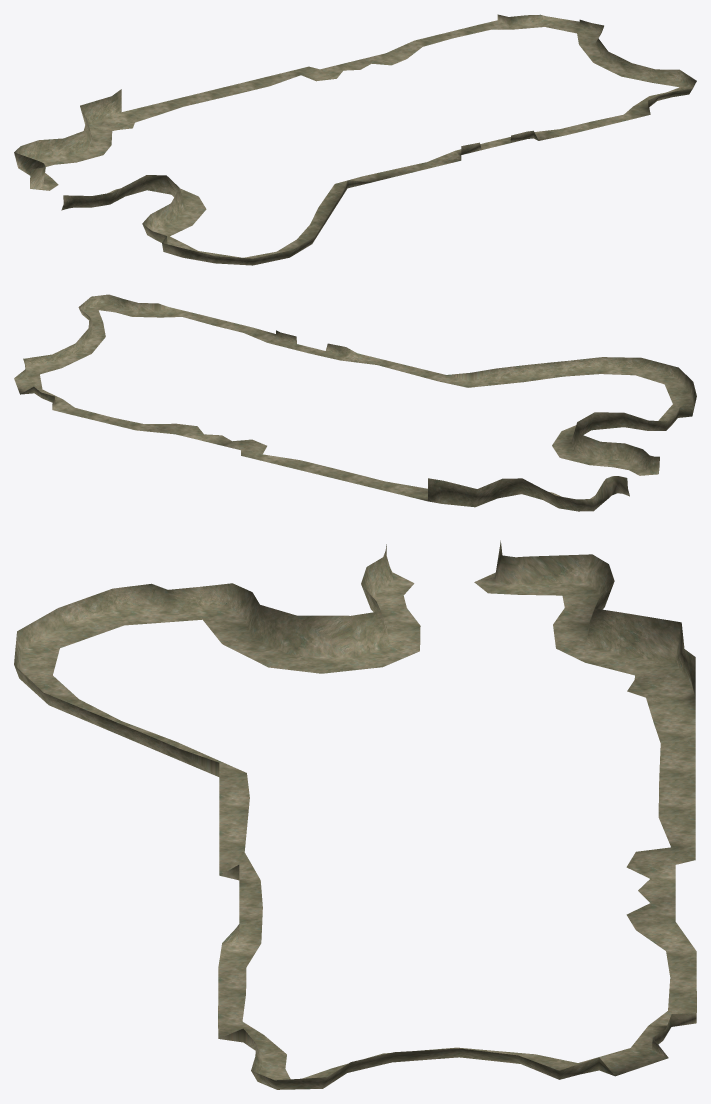
The model's file is EKH_GROTTO_PS_GR_OBJECT62.fbx.
3 views of the same model, one above another, from view 1: azimuth 30°, elevation 25°; view 2: azimuth 150°, elevation 25°; view 3: azimuth 270°, elevation 25° (orthographic). The views are drawn at different scales.
Parts seen in each view (by area): view 1: EKH_GROTTO_PS_GR_OBJECT62; view 2: EKH_GROTTO_PS_GR_OBJECT62; view 3: EKH_GROTTO_PS_GR_OBJECT62.
Boxes of the visible parts, bbox=[...] form: EKH_GROTTO_PS_GR_OBJECT62: bbox=[14, 14, 696, 265]; EKH_GROTTO_PS_GR_OBJECT62: bbox=[14, 294, 696, 511]; EKH_GROTTO_PS_GR_OBJECT62: bbox=[14, 540, 696, 1089].
Size of the model in its own units: 284791 by 10495 by 157612.
1 material, 1 textured.
